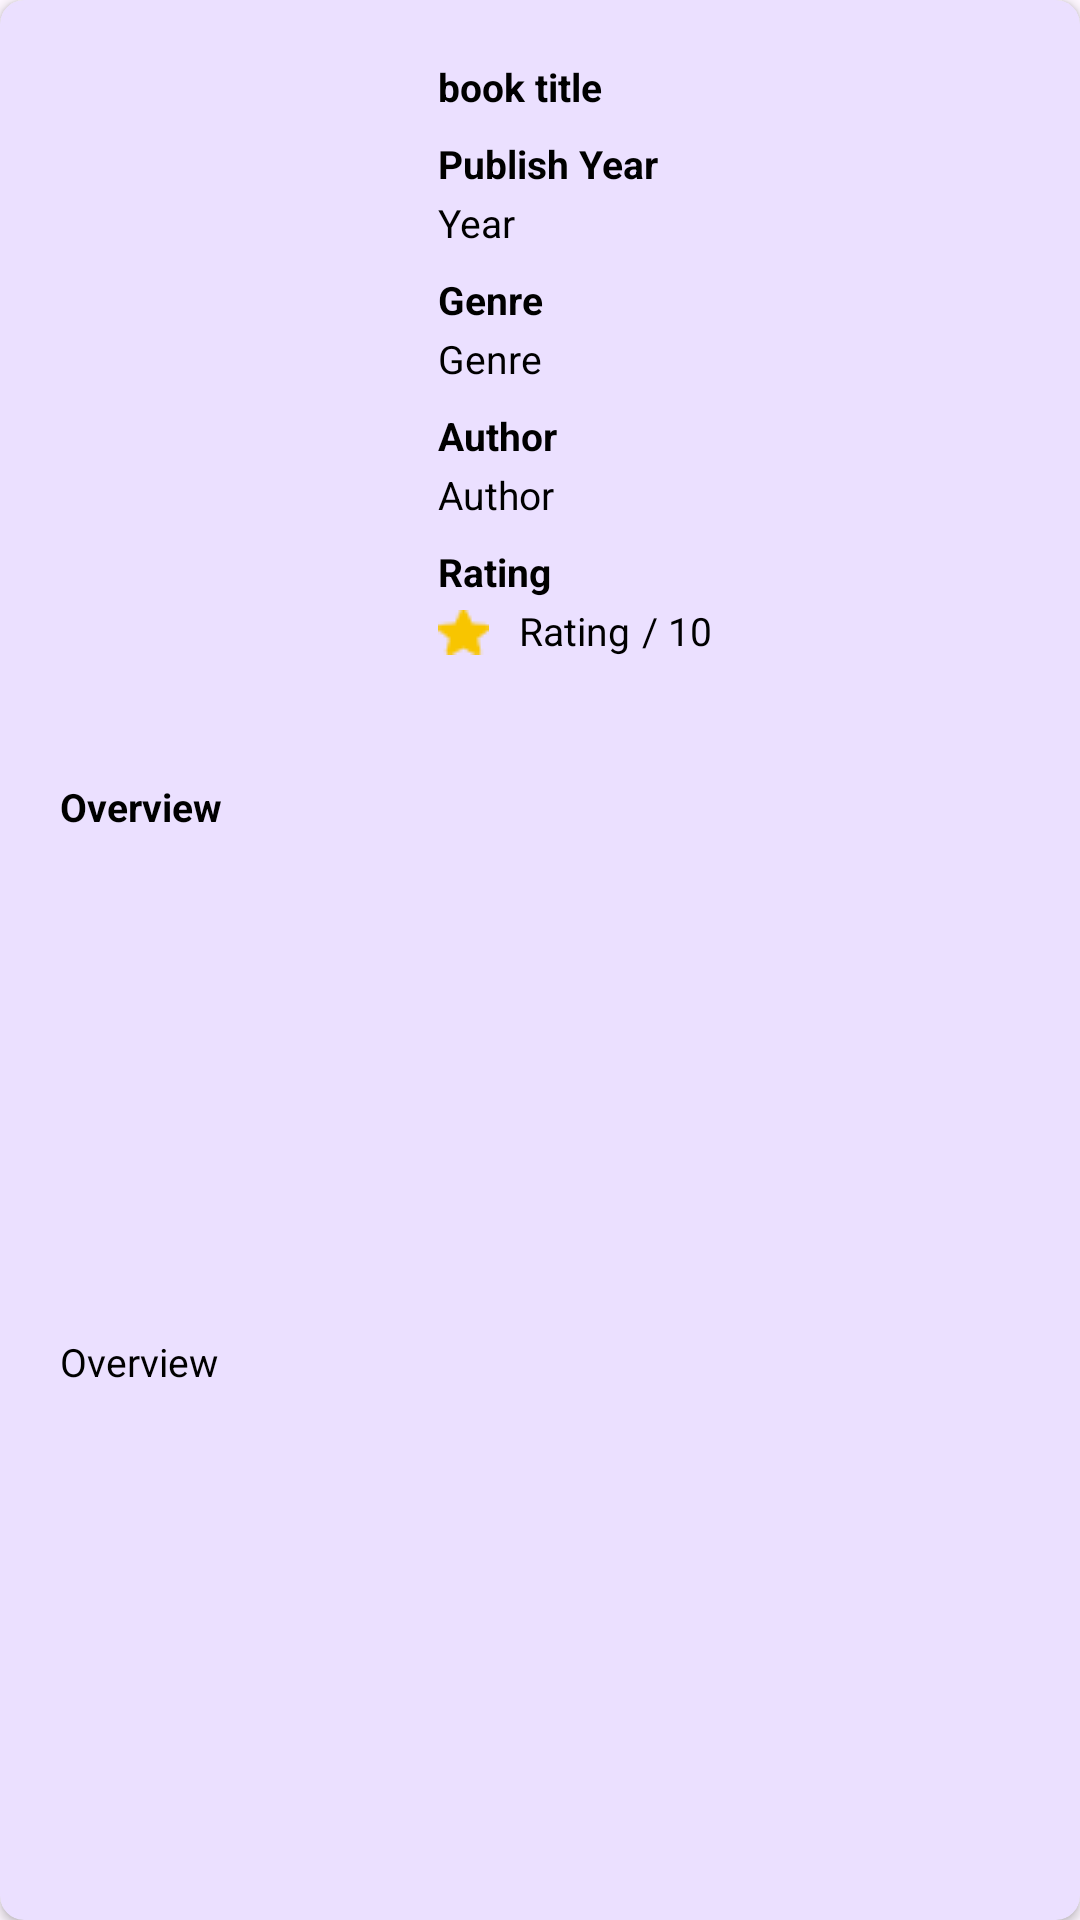

Icon bounding boxes for this 1080px x 1920px phone screenshot, format (x1, y1, x2, y2):
star: (438, 610, 489, 655)
